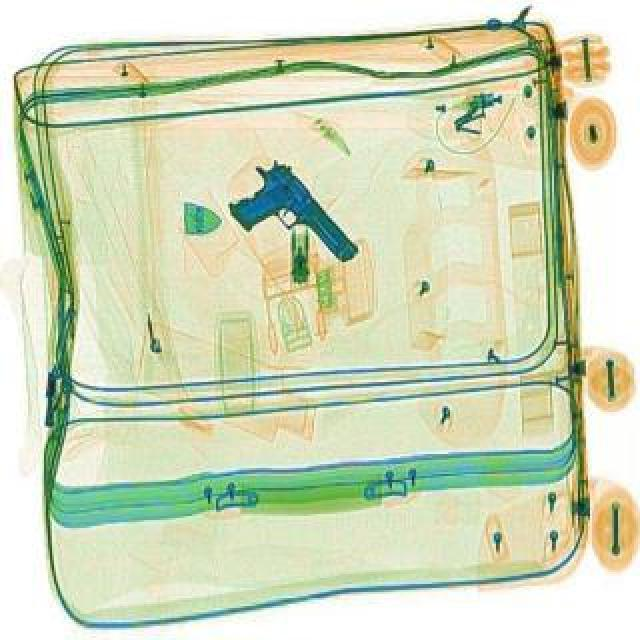gun: (214, 156, 366, 300)
